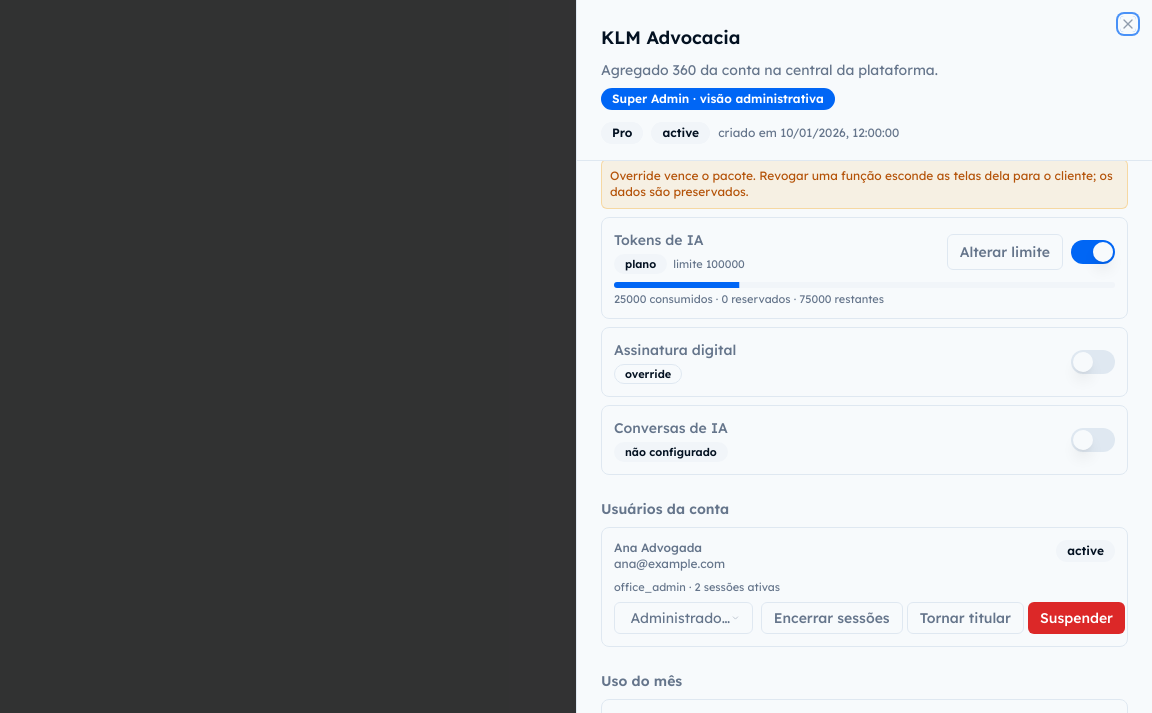
Test case: WorkspaceAccount360 › uses the canonical metered flag even when monthly usage is unavailable
(page scrolled)
Click the switch named "Alternar Conversas de IA".
click(1093, 440)  # box [1071,428,1115,452]
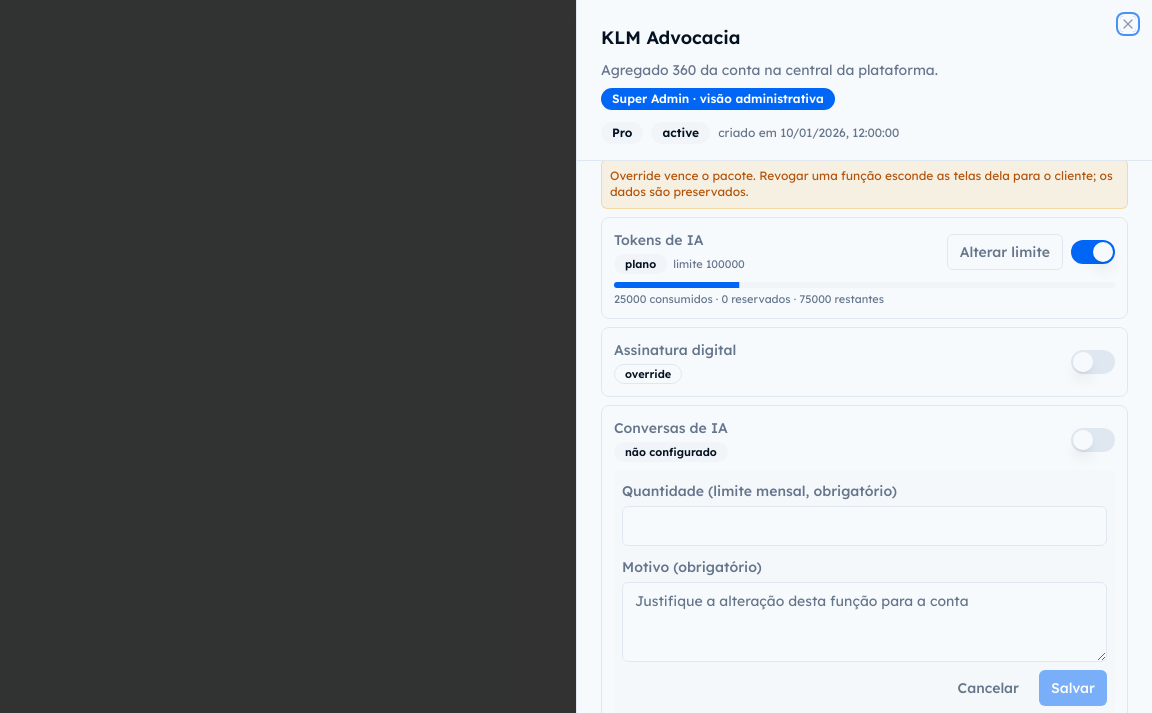
Expected: the text "Conversas de IA" is shown once, [614,418,728,438]
